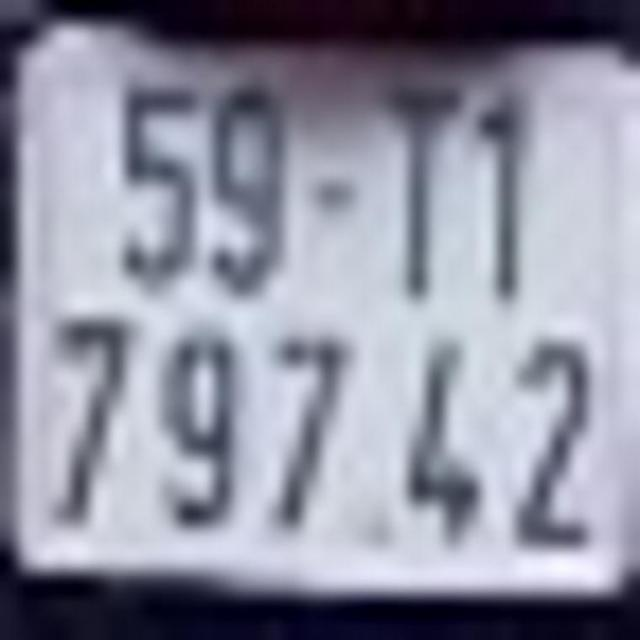1: (473, 87, 538, 300)
2: (506, 332, 601, 548)
4: (401, 324, 492, 542)
5: (121, 79, 199, 298)
7: (256, 318, 347, 538), (47, 308, 132, 535)
9: (206, 83, 295, 303), (158, 330, 238, 541)
T: (380, 90, 468, 295)
